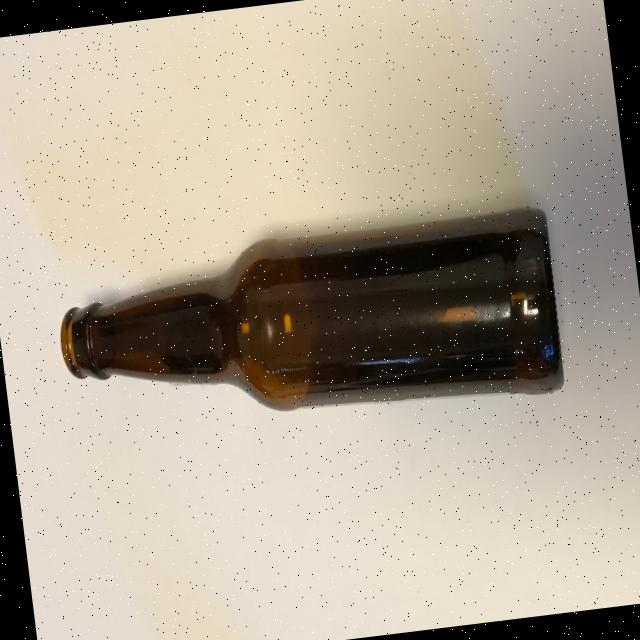glass: (51, 202, 568, 452)
